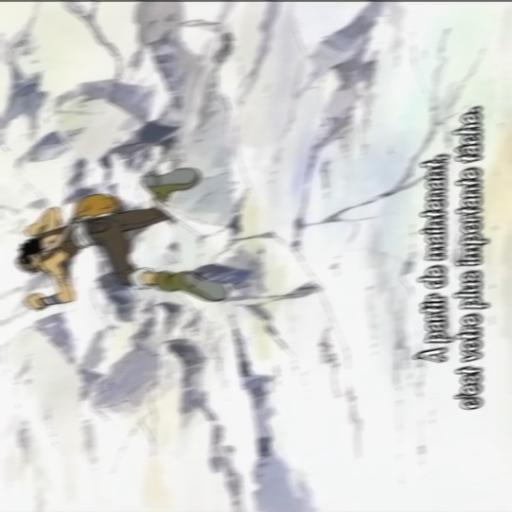Usopp: (0, 150, 195, 326)
